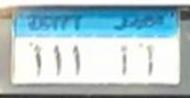1: (70, 45, 83, 79), (52, 45, 65, 77), (33, 45, 45, 79)
alif: (117, 43, 132, 77), (143, 43, 156, 78)
